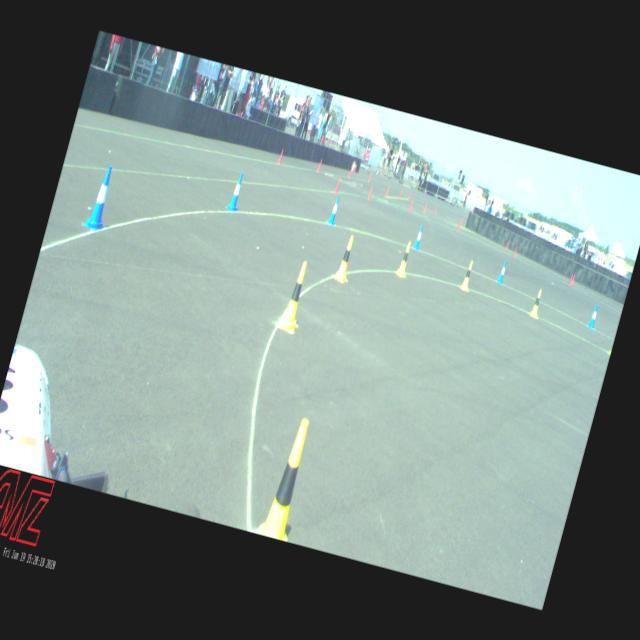blue_cone: (82, 163, 119, 230), (226, 171, 246, 211), (327, 195, 341, 225), (412, 224, 424, 250), (586, 304, 598, 328), (496, 261, 507, 284)
yellow_cone: (252, 414, 318, 540), (276, 260, 312, 332), (333, 234, 357, 282), (396, 240, 414, 276), (529, 288, 543, 318), (460, 260, 474, 290)
